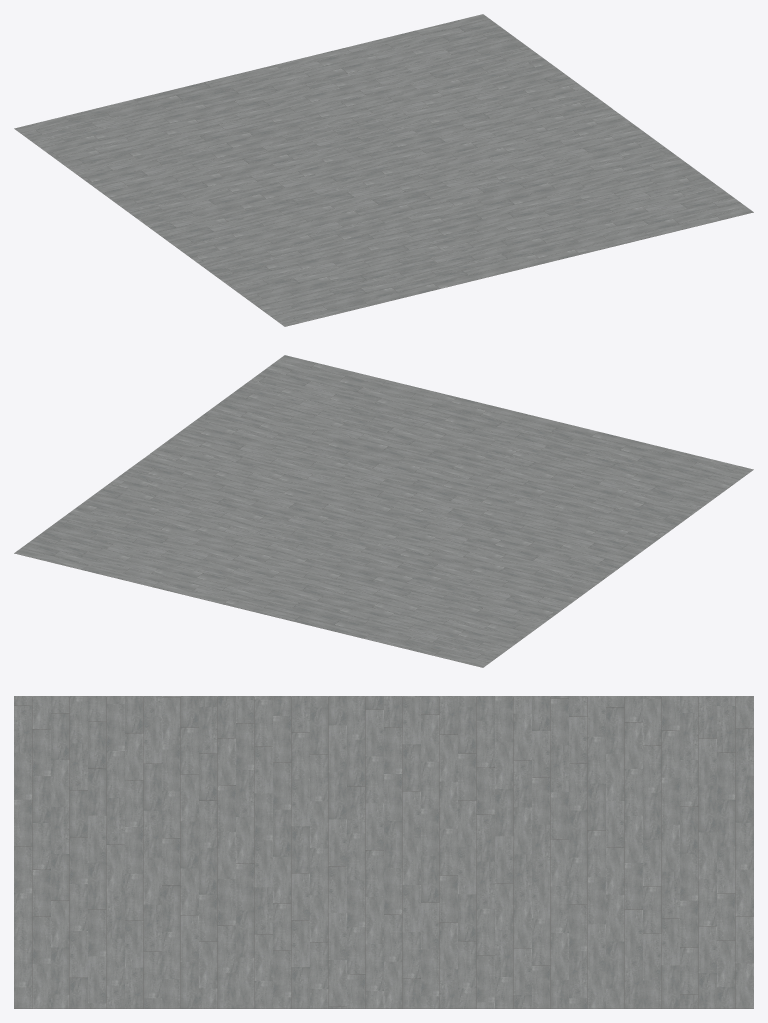
File: liege-grey-20x120.glb
The picture shows the model from 3 angles, top to bottom: view 1: azimuth 30°, elevation 25°; view 2: azimuth 150°, elevation 25°; view 3: azimuth 270°, elevation 25°; orthographic projection. The views are drawn at different scales.
Visible parts, largest first — view 1: LiÃ¨ge Grey; view 2: LiÃ¨ge Grey; view 3: LiÃ¨ge Grey.
Part boxes in pixels (x1=…): LiÃ¨ge Grey: x1=14, y1=14, x2=753, y2=326; LiÃ¨ge Grey: x1=14, y1=355, x2=753, y2=667; LiÃ¨ge Grey: x1=14, y1=696, x2=753, y2=1008.
Size of the model in its own units: 8 by 0.003 by 8.
Materials: 2 (1 with a texture image).
